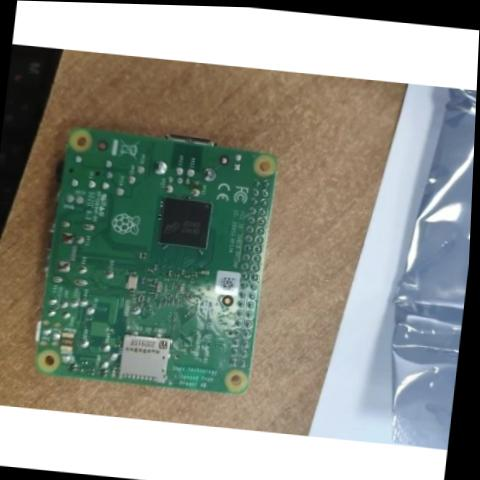Raspberry-Pi-3-Model-A-: (25, 115, 289, 404)
